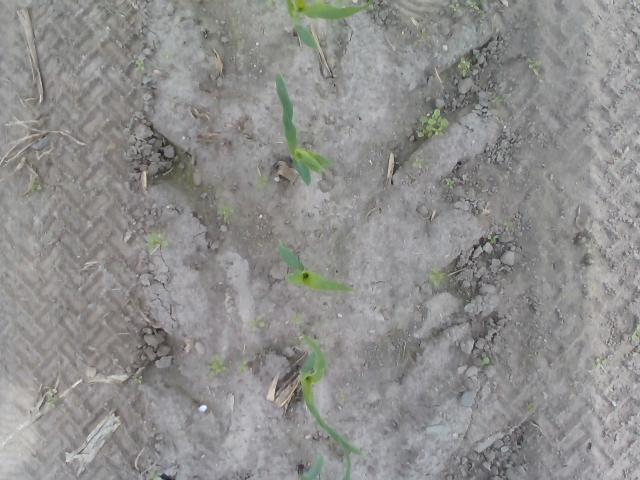Maize: (296, 331, 367, 456), (273, 71, 335, 188), (283, 0, 375, 50), (272, 241, 354, 295), (292, 451, 356, 480)
Weeds: (416, 107, 448, 137), (448, 0, 484, 14), (424, 266, 448, 286), (146, 231, 168, 250), (206, 354, 226, 374), (217, 206, 236, 222), (458, 57, 472, 78), (248, 318, 264, 334), (527, 58, 541, 76), (47, 387, 58, 408), (132, 57, 146, 73), (256, 174, 268, 190), (30, 177, 42, 193), (290, 312, 304, 324), (631, 324, 640, 341), (362, 0, 377, 10), (412, 158, 423, 169), (595, 356, 606, 367), (239, 362, 249, 374), (445, 180, 456, 190), (488, 234, 497, 246), (482, 356, 492, 366), (133, 375, 143, 385), (493, 96, 503, 104), (505, 222, 512, 232), (264, 0, 274, 7)
